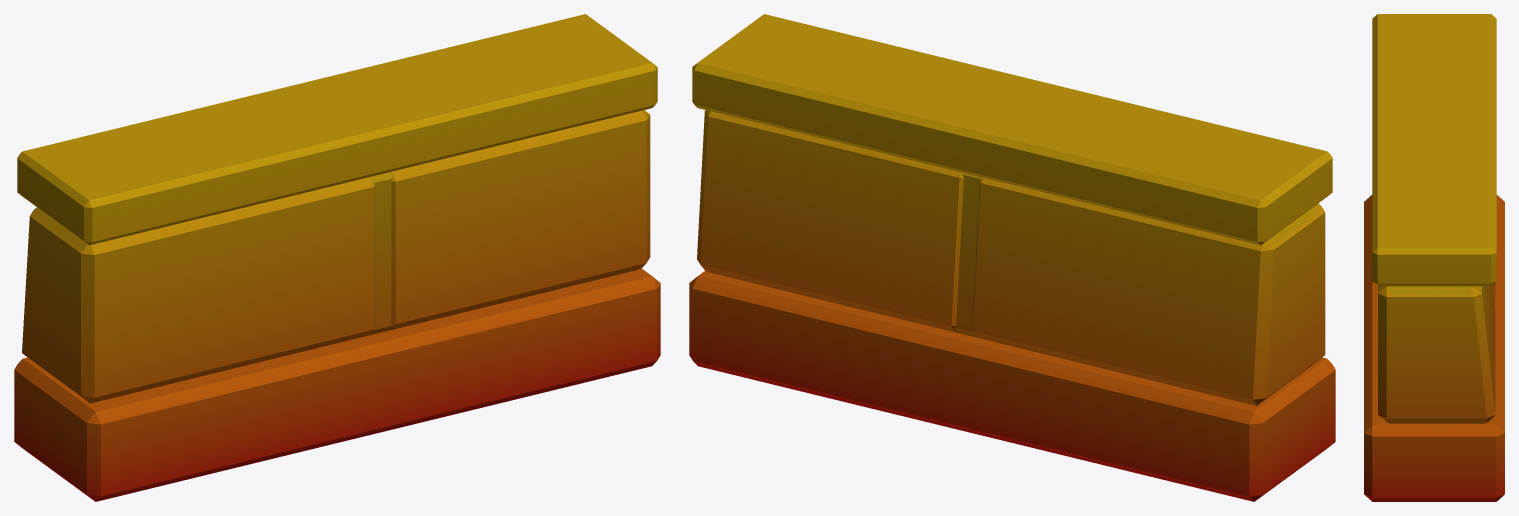
The model's file is wall_low.glb.
3 renders of one model, left to right at view 1: azimuth 30°, elevation 25°; view 2: azimuth 150°, elevation 25°; view 3: azimuth 270°, elevation 25°, orthographic. The views are drawn at different scales.
Visible parts, largest first — view 1: wall_low; view 2: wall_low; view 3: wall_low.
Part boxes in pixels (x1,y1,x2,y2): wall_low: (14,14,660,501); wall_low: (689,14,1335,501); wall_low: (1364,14,1504,501).
Size of what is drawn, in the model's own units: 2 by 1 by 0.5.
